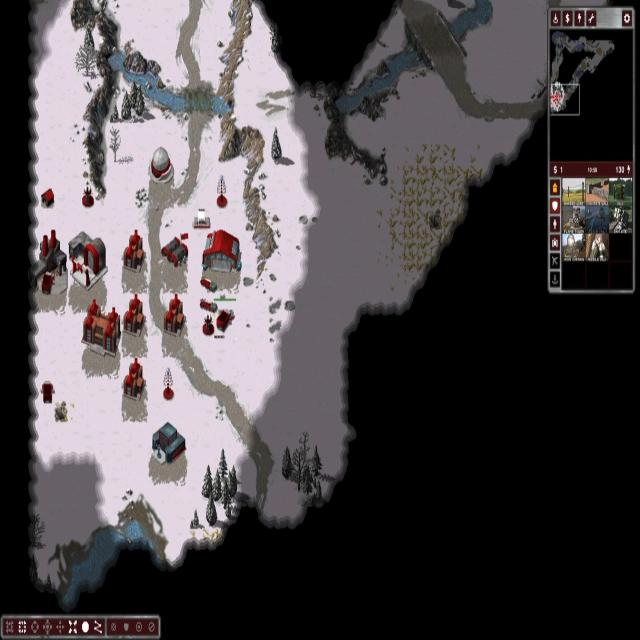bingying: (162, 237, 188, 267)
dianchang: (122, 228, 146, 273), (122, 293, 146, 338), (123, 358, 146, 399), (164, 292, 185, 336)
jidi: (68, 231, 108, 290)
jungongchang: (202, 230, 241, 276)
kuangchang: (31, 229, 68, 297)
leida: (148, 147, 174, 184)
